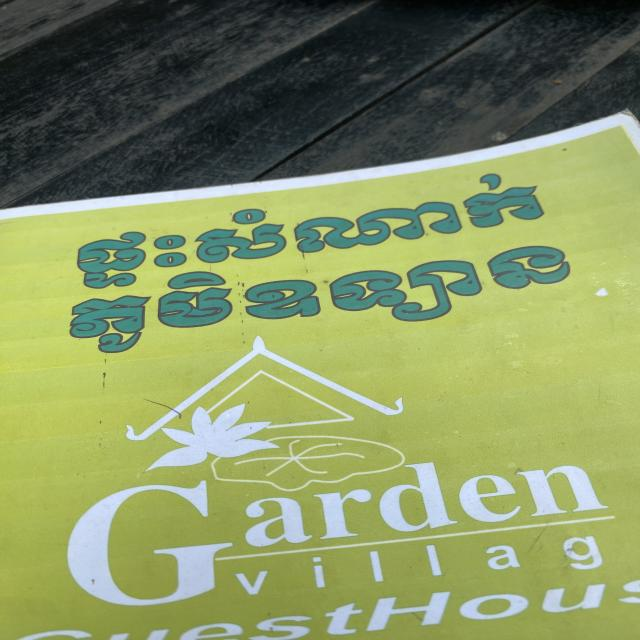Yolov11_80vkh: (60, 219, 586, 359), (66, 152, 558, 301)
